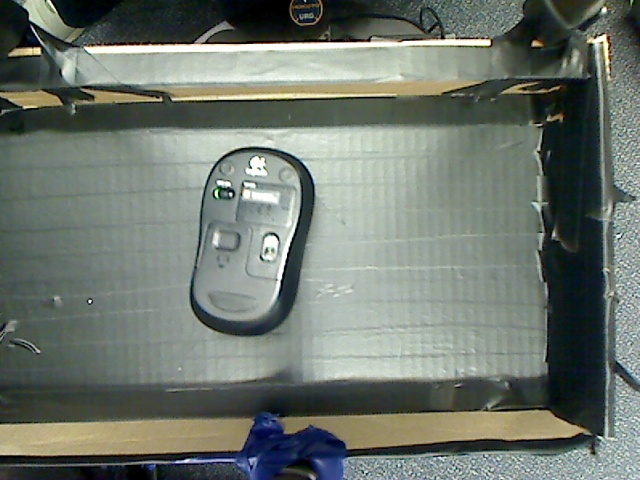mouse: (161, 142, 333, 340)
